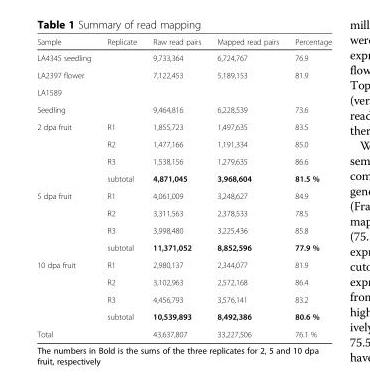table: (36, 36, 331, 338)
table column: (208, 36, 286, 338), (144, 36, 208, 338), (36, 36, 98, 338), (98, 36, 144, 338), (286, 36, 331, 338)
table column header: (36, 36, 331, 49)
table projected row header: (36, 83, 331, 100)
table row: (36, 117, 331, 135), (36, 186, 331, 204), (36, 255, 331, 273), (36, 49, 331, 66), (36, 66, 331, 83), (36, 83, 331, 100), (36, 100, 331, 117), (36, 135, 331, 152), (36, 152, 331, 169), (36, 169, 331, 186), (36, 204, 331, 221), (36, 221, 331, 238), (36, 238, 331, 255), (36, 273, 331, 290), (36, 290, 331, 307), (36, 307, 331, 324), (36, 324, 331, 338), (36, 36, 331, 49)
table spanning cell: (36, 117, 98, 186), (36, 186, 98, 255), (36, 255, 98, 324)
